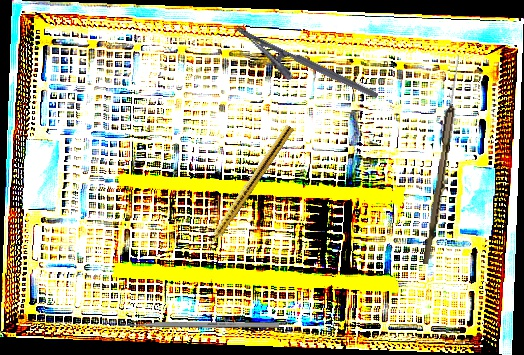Handpiece: (200, 122, 295, 254)
Needle Holder: (224, 23, 380, 119)
Pusher: (112, 322, 279, 328)
Surgical Spoon: (422, 53, 464, 266)
